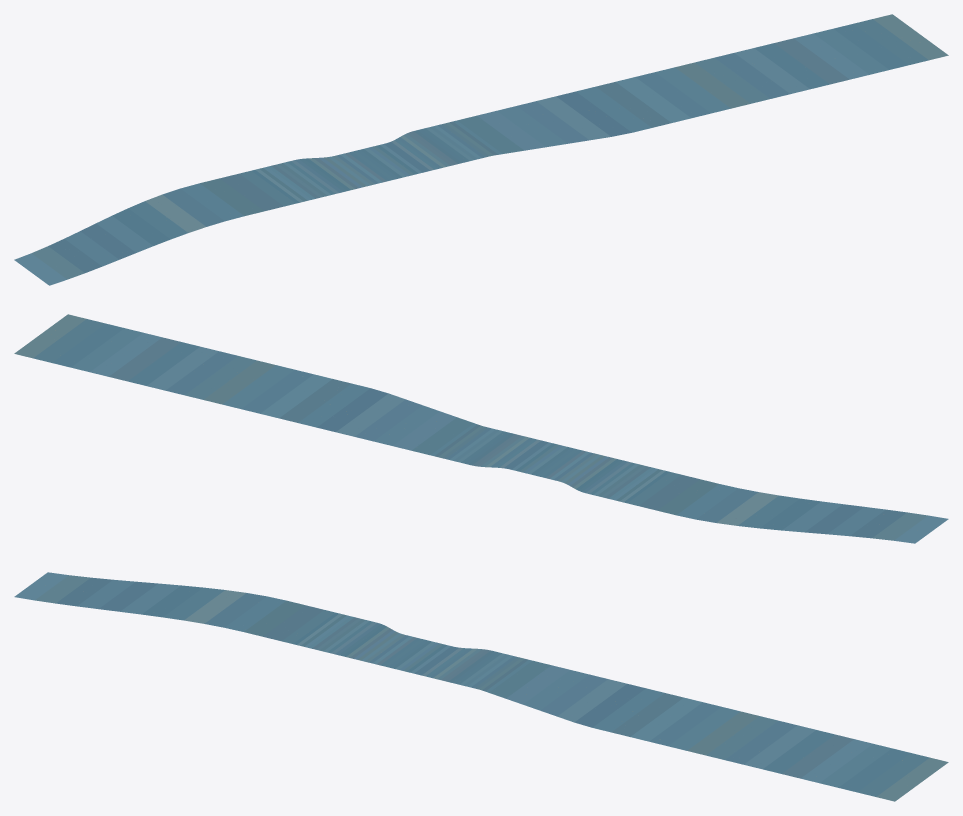
File: ART_KyobashiWater.glb
3 views of the same model, one above another, from view 1: azimuth 30°, elevation 25°; view 2: azimuth 150°, elevation 25°; view 3: azimuth 330°, elevation 25° (orthographic). The views are drawn at different scales.
Parts seen in each view (by area): view 1: ART_KyobashiWater; view 2: ART_KyobashiWater; view 3: ART_KyobashiWater.
Boxes of the visible parts, left/top/right/bottom form: ART_KyobashiWater: left=14, top=14, right=948, bottom=285; ART_KyobashiWater: left=14, top=314, right=948, bottom=543; ART_KyobashiWater: left=14, top=572, right=948, bottom=801.
Bounding box in the file's own units: 460 × 0.0065 × 59.06.
